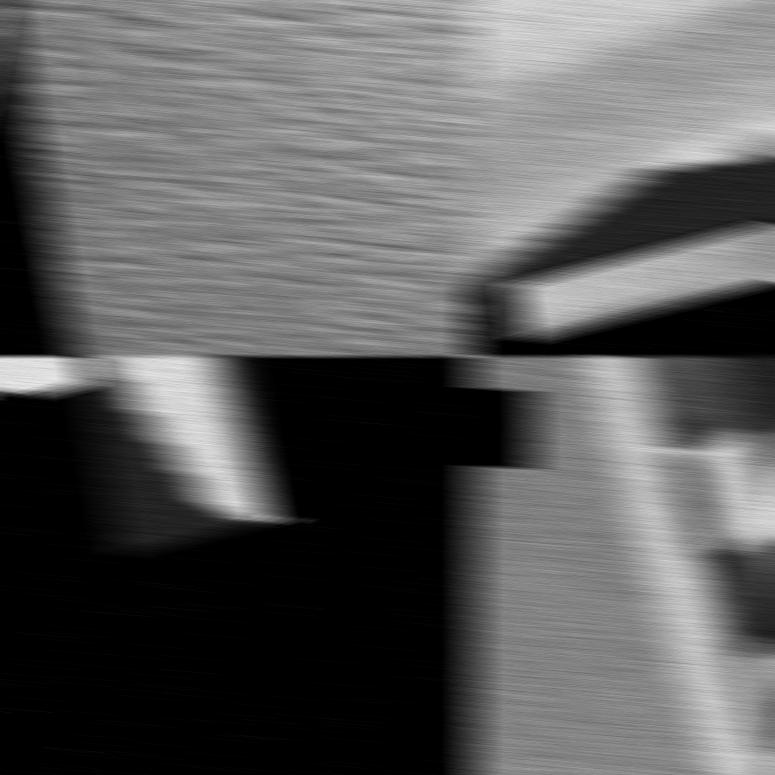Airbag: (0, 0, 479, 356), (464, 355, 775, 775), (464, 0, 775, 283), (100, 356, 276, 520)
